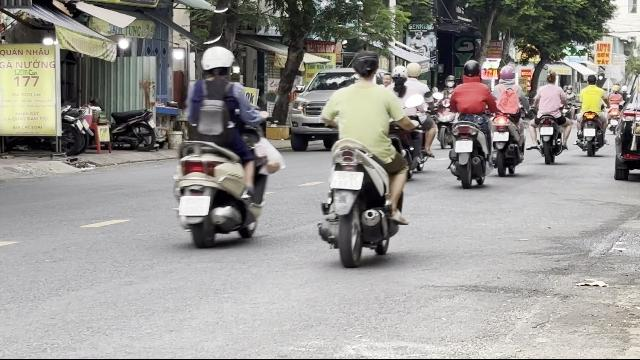helmet: (199, 46, 235, 78), (462, 60, 482, 80), (391, 64, 407, 86), (405, 62, 421, 78)
licenseplate: (180, 195, 208, 214), (331, 172, 362, 188), (456, 140, 472, 152)
motorcyclist: (168, 44, 282, 248), (316, 50, 414, 264), (444, 59, 494, 187), (392, 61, 438, 175)
nohelmet: (350, 50, 380, 80)
